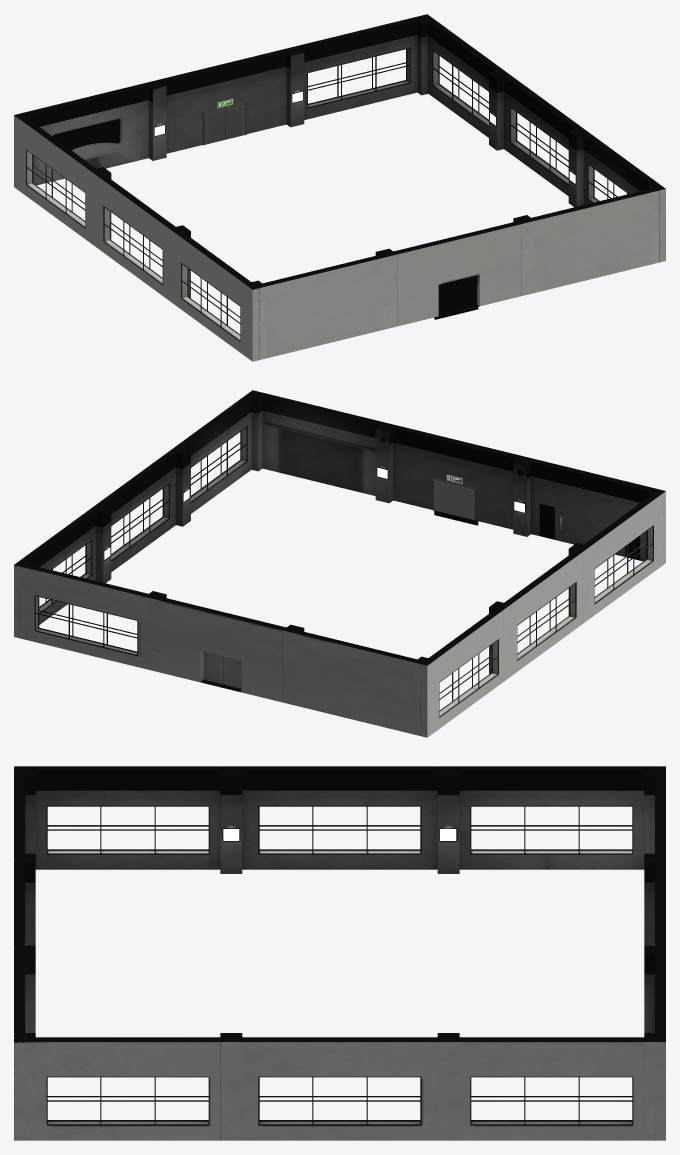
The model's file is wallv2.gltf.
The picture shows the model from 3 angles, top to bottom: view 1: azimuth 30°, elevation 25°; view 2: azimuth 150°, elevation 25°; view 3: azimuth 270°, elevation 25°; orthographic projection. The views are drawn at different scales.
Visible parts, largest first — view 1: NS_Wall, WE_Wall, Pillar, WindowFrame, NemDoor+Sign, Cube; view 2: NS_Wall, WE_Wall, Pillar, WindowFrame, SentDoor+Sign, NemDoor+Sign; view 3: WE_Wall, Pillar, WindowFrame, NS_Wall.
Part boxes in pixels (x1,y1,x2,y2): NS_Wall: (14,15,664,360); WE_Wall: (14,15,665,361); Pillar: (14,14,665,361); WindowFrame: (26,47,628,341); NemDoor+Sign: (203,98,246,145); Cube: (434,275,478,319); NS_Wall: (14,392,665,736); WE_Wall: (14,391,665,737); Pillar: (14,390,665,737); WindowFrame: (34,426,653,717); SentDoor+Sign: (433,474,476,520); NemDoor+Sign: (204,651,241,688); WE_Wall: (14,766,665,1140); Pillar: (14,766,665,1140); WindowFrame: (46,805,633,1125); NS_Wall: (14,766,665,1139).
Size of what is drawn, in the model's own units: 30 by 5.36 by 30.
Materials: 9 (6 with a texture image).
